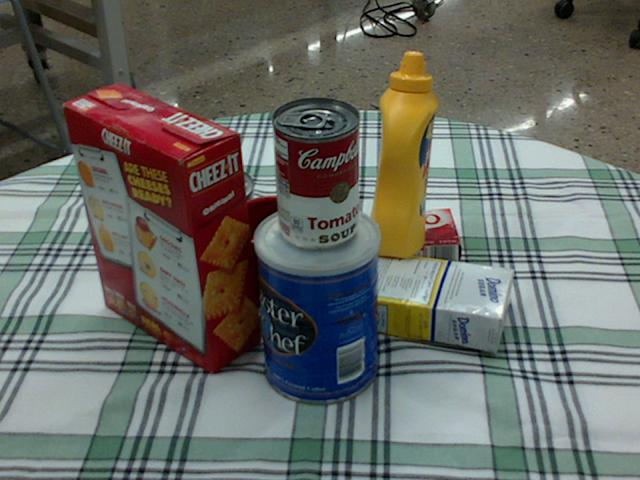cracker_box: (61, 85, 261, 371)
gelatin_box: (370, 209, 458, 267)
master_chef_can: (253, 202, 379, 404)
mug: (221, 195, 317, 308)
mustard_bottle: (367, 52, 437, 257)
potted_meat_can: (148, 188, 260, 277)
sugar_box: (314, 245, 514, 348)
tomato_soup_can: (269, 96, 357, 248)
tuna_fish_can: (169, 164, 254, 233)
